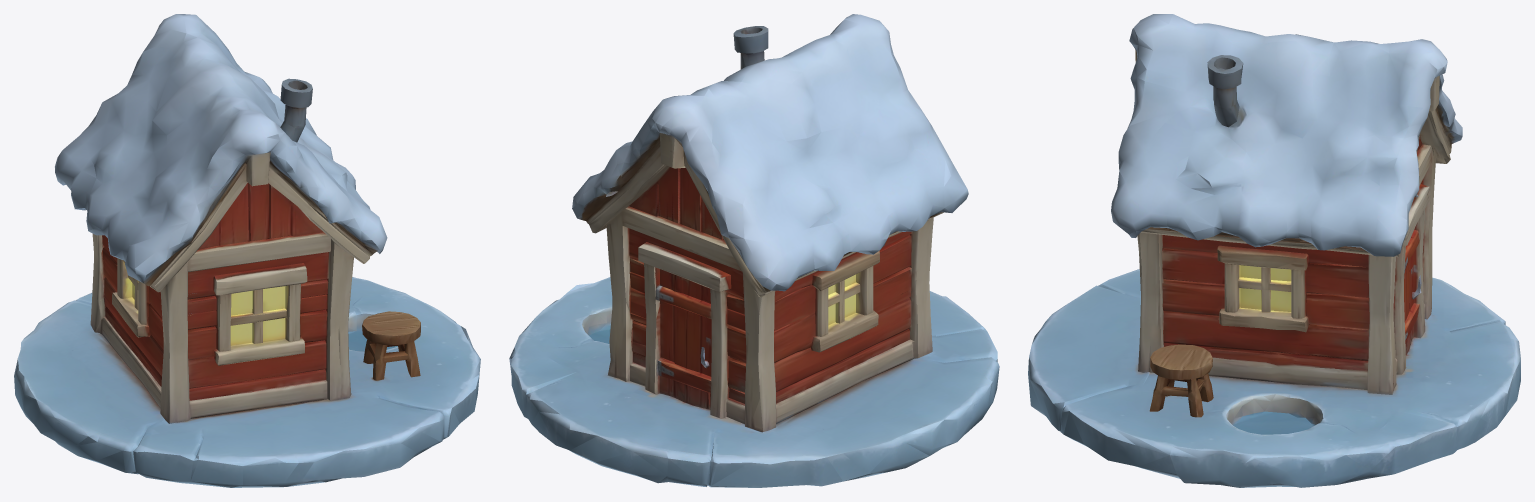
File: fishing_hut.glb
3 renders of one model, left to right at view 1: azimuth 30°, elevation 25°; view 2: azimuth 150°, elevation 25°; view 3: azimuth 270°, elevation 25°, orthographic. The views are drawn at different scales.
Visible parts, largest first — view 1: SkyRally_prop_snow_fishing_hut; view 2: SkyRally_prop_snow_fishing_hut; view 3: SkyRally_prop_snow_fishing_hut.
Part boxes in pixels (x1=…): SkyRally_prop_snow_fishing_hut: x1=14, y1=14, x2=480, y2=487; SkyRally_prop_snow_fishing_hut: x1=509, y1=14, x2=999, y2=487; SkyRally_prop_snow_fishing_hut: x1=1028, y1=14, x2=1520, y2=487.
Size of the model in its own units: 18.01 by 14 by 18.06.
Materials: 1 (1 with a texture image).
